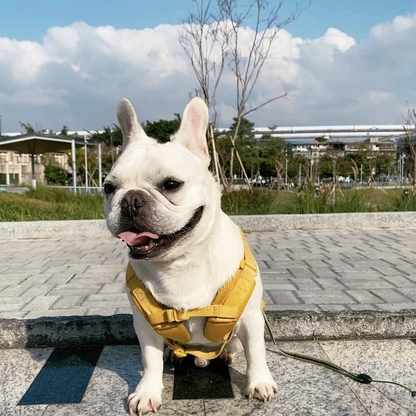bulldog: (97, 95, 281, 416)
